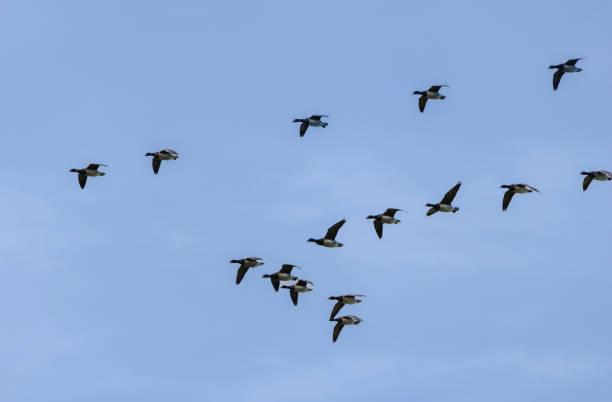Canadian-Goose: (61, 155, 129, 207)
